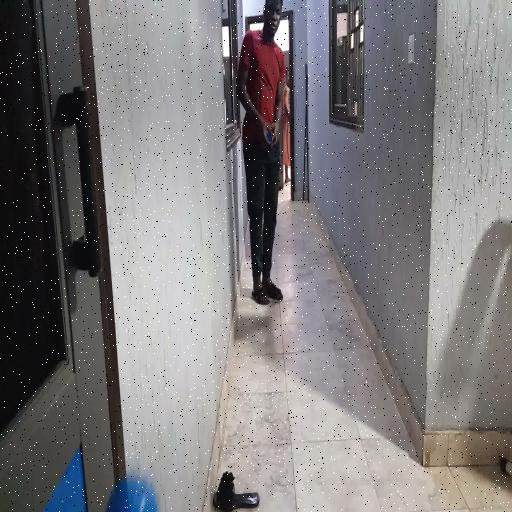plastic-ball: (102, 475, 161, 512)
